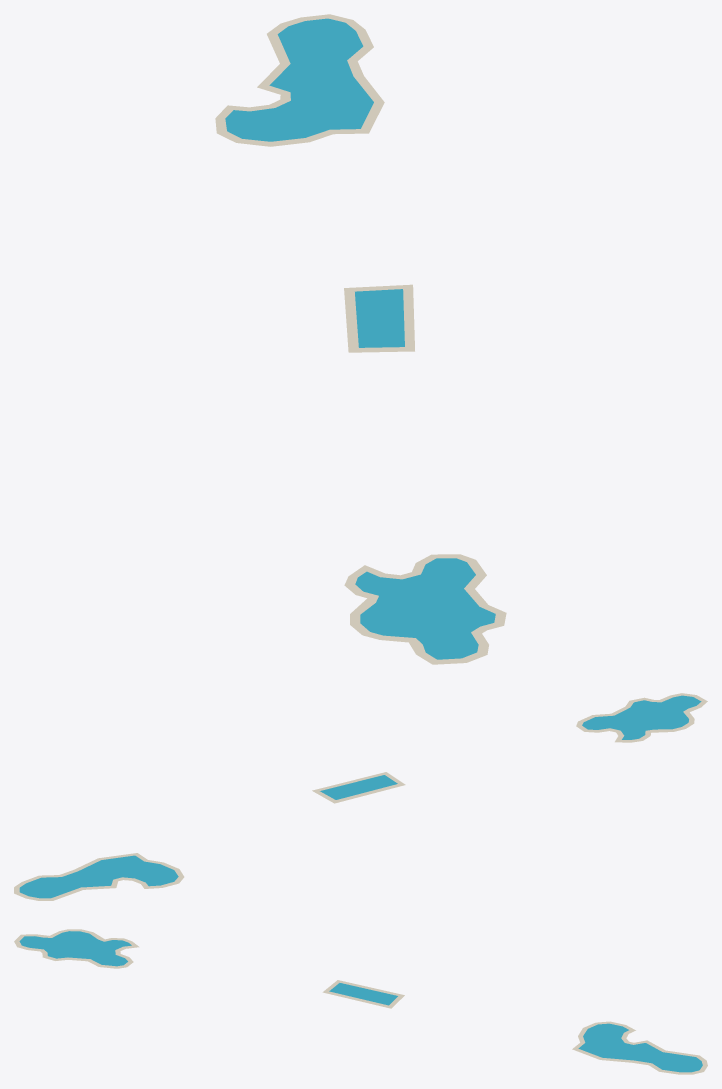
File: pbpool_m23_m9.glb
3 views of the same model, one above another, from view 1: azimuth 30°, elevation 25°; view 2: azimuth 150°, elevation 25°; view 3: azimuth 270°, elevation 25° (orthographic). The views are drawn at different scales.
Visible parts, largest first — view 1: pbpool_m23_m9_lod0; view 2: pbpool_m23_m9_lod0; view 3: pbpool_m23_m9_lod0.
Part boxes in pixels (x1=…): pbpool_m23_m9_lod0: x1=215, y1=14, x2=506, y2=664; pbpool_m23_m9_lod0: x1=14, y1=693, x2=707, y2=900; pbpool_m23_m9_lod0: x1=14, y1=929, x2=707, y2=1074.
Size of what is drawn, in the model's own units: 90.01 by 3.29 by 176.
